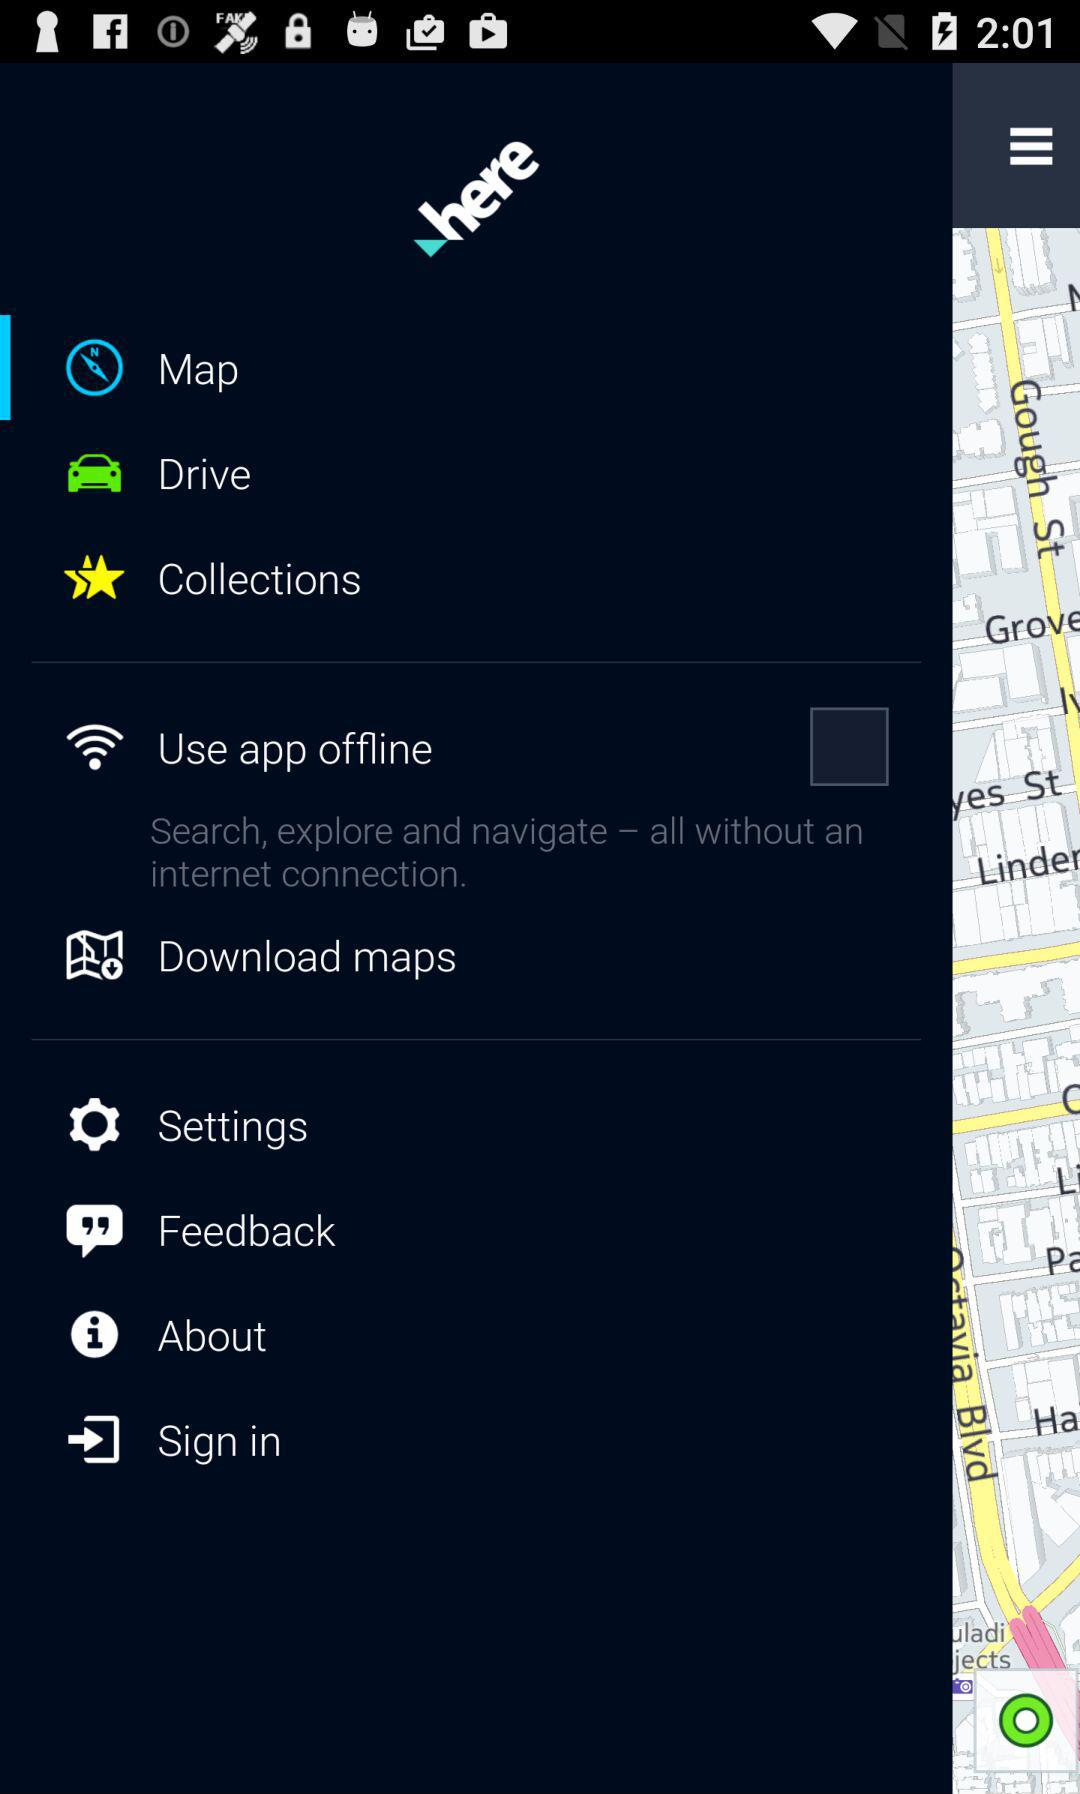Drawer: (1, 65, 954, 1793)
Icon: (65, 338, 126, 399), (67, 1205, 126, 1258), (67, 929, 126, 982), (63, 555, 126, 601), (70, 1098, 120, 1152), (68, 1415, 120, 1465), (70, 1310, 120, 1360), (1010, 128, 1054, 167)
Image: (413, 141, 541, 260), (67, 723, 126, 771), (67, 454, 124, 495)
Text: (150, 814, 863, 889), (160, 938, 457, 982), (160, 730, 433, 774), (159, 561, 363, 597), (158, 1108, 309, 1152), (160, 1214, 337, 1248), (158, 1424, 281, 1466), (158, 1319, 266, 1354), (160, 352, 240, 395), (160, 457, 252, 491)
